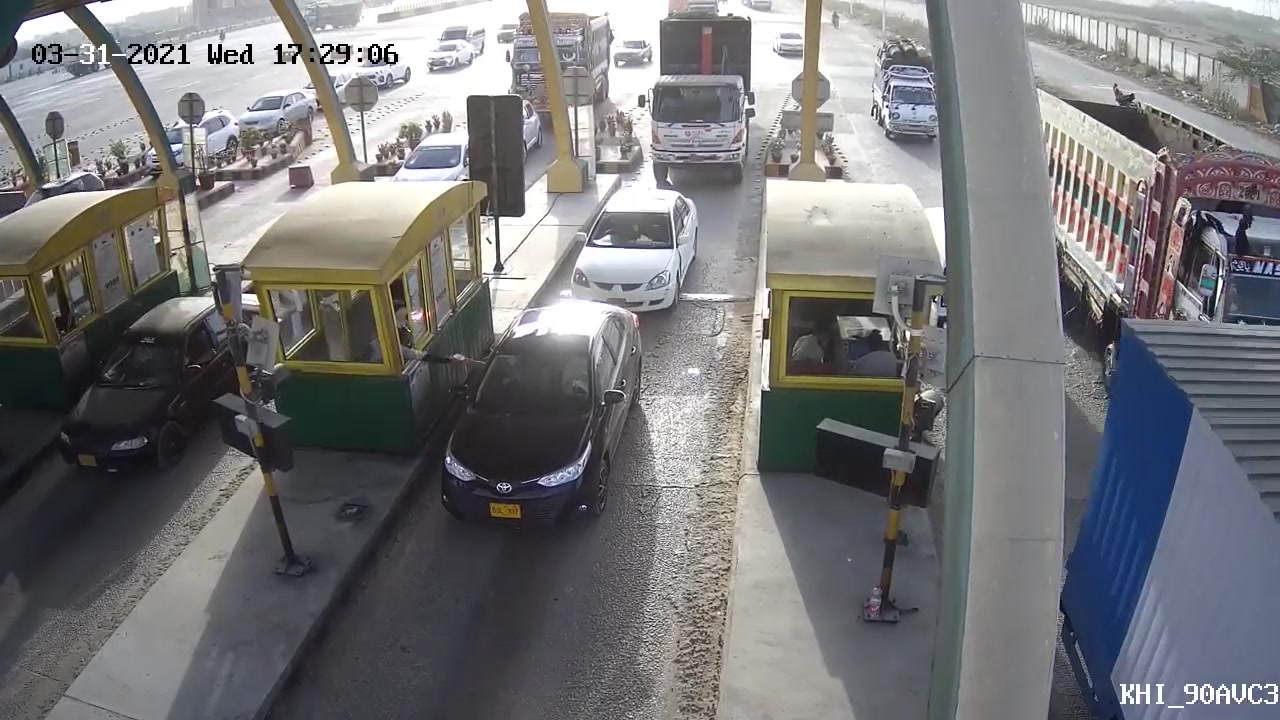F1: (430, 303, 648, 551)
